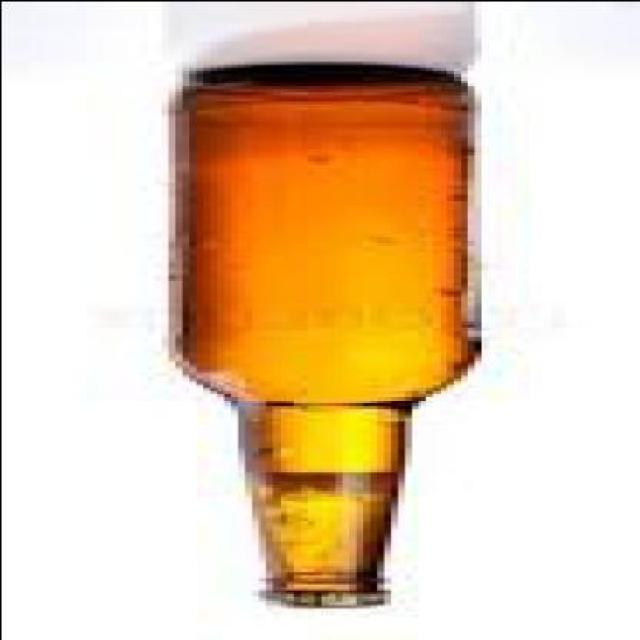GLASS: (180, 66, 494, 592)
METAL: (272, 595, 390, 610)
